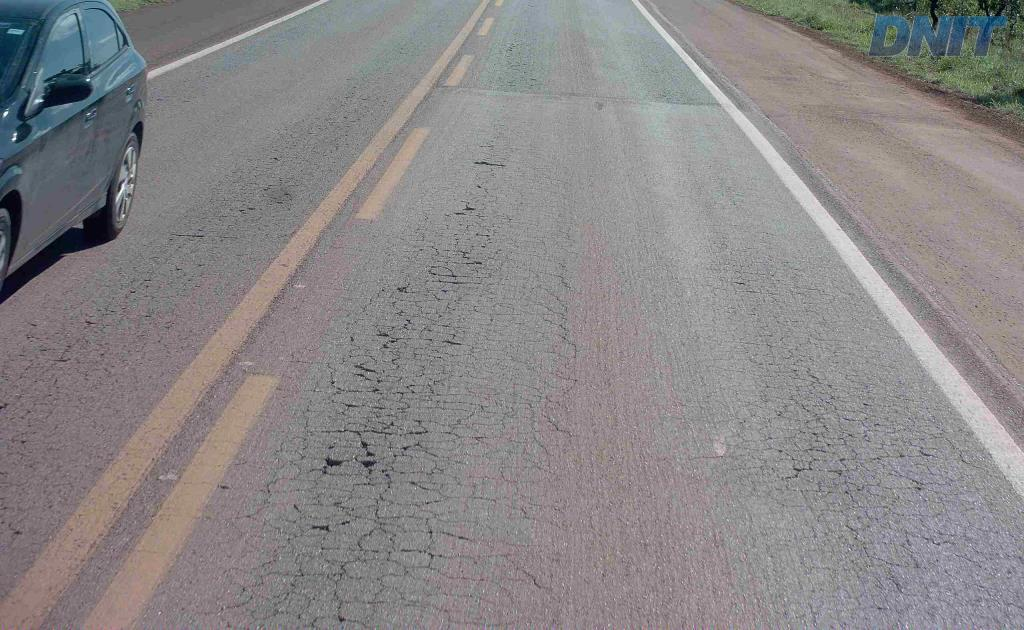crack: (307, 451, 386, 492)
